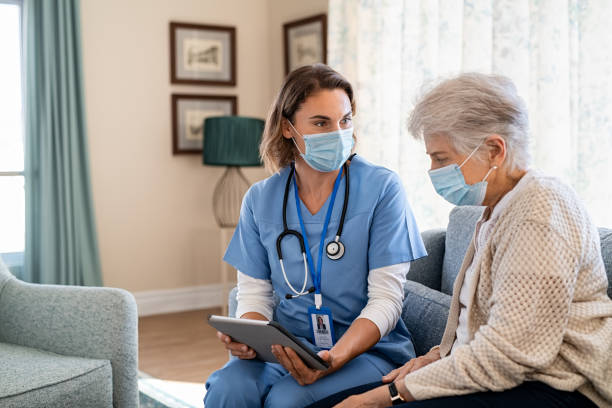with mask: (284, 79, 363, 176), (424, 115, 503, 212)
